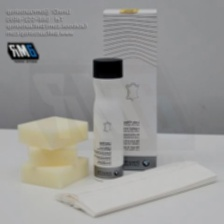book: (100, 6, 160, 173)
cleaning_solution: (90, 56, 126, 182)
